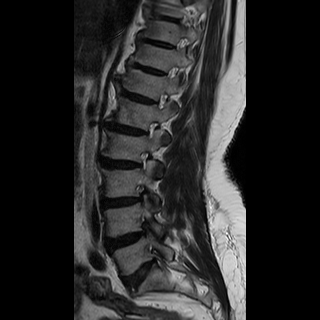RFS0: (130, 145, 155, 176), (138, 114, 162, 144)
